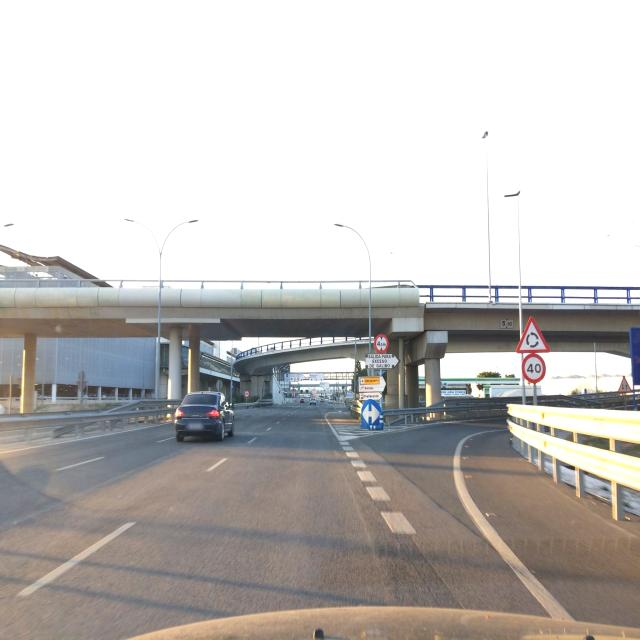car: (174, 390, 236, 442), (255, 397, 278, 408), (309, 398, 318, 406), (299, 396, 305, 404)
